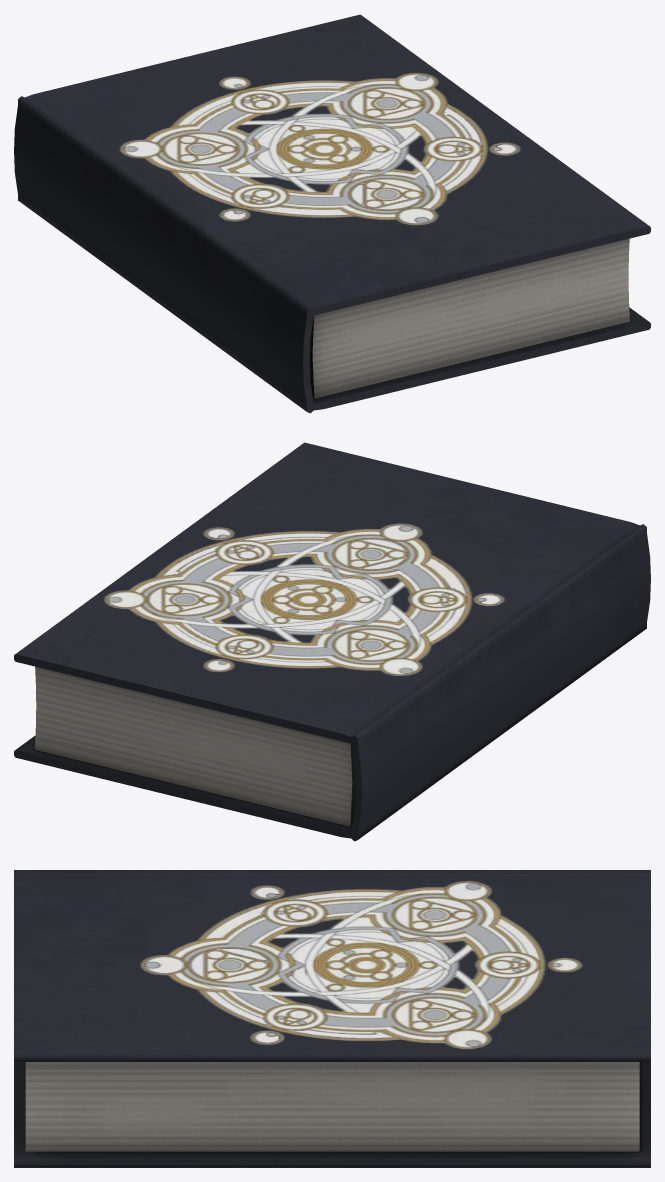
Rendered from Book1.fbx.
The picture shows the model from 3 angles, top to bottom: view 1: azimuth 30°, elevation 25°; view 2: azimuth 150°, elevation 25°; view 3: azimuth 270°, elevation 25°; orthographic projection. The views are drawn at different scales.
Visible parts, largest first — view 1: book_a_0; view 2: book_a_0; view 3: book_a_0.
Part boxes in pixels (bbox=[...]): book_a_0: bbox=[14, 14, 650, 413]; book_a_0: bbox=[14, 442, 650, 841]; book_a_0: bbox=[14, 870, 650, 1167].
Size of the model in its own units: 30.05 by 8.73 by 43.23.
